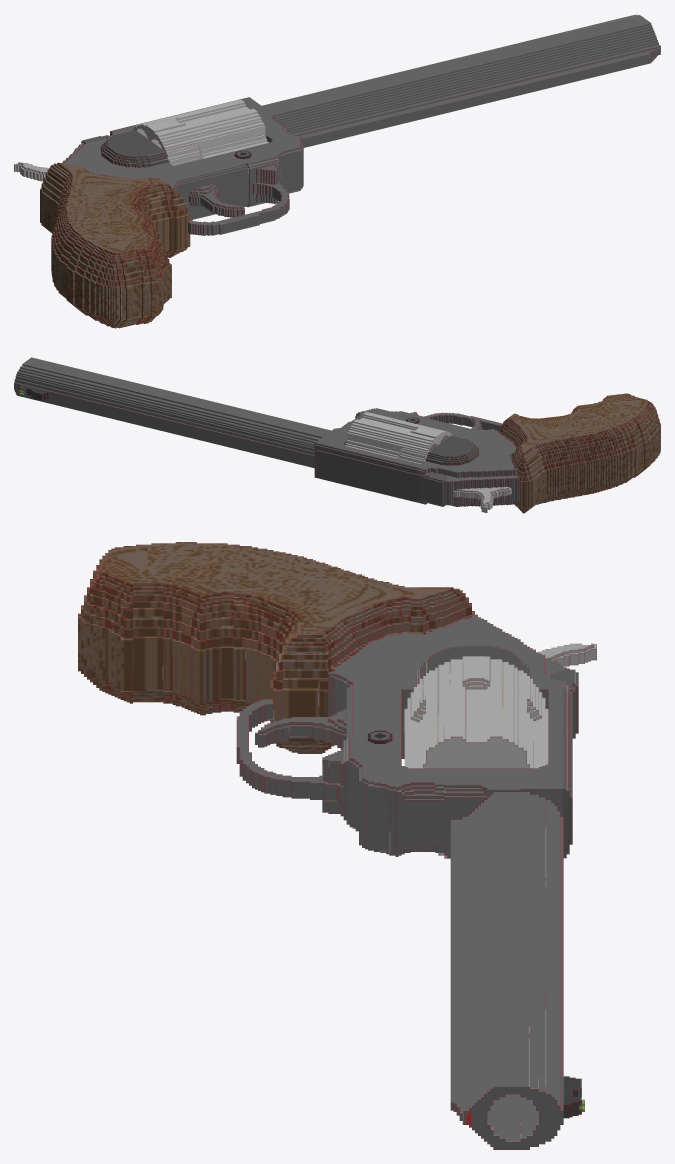
The model's file is Gun_2.fbx.
3 renders of one model, top to bottom at view 1: azimuth 30°, elevation 25°; view 2: azimuth 150°, elevation 25°; view 3: azimuth 270°, elevation 25°, orthographic. The views are drawn at different scales.
Visible parts, largest first — view 1: Gun_2.001; view 2: Gun_2.001; view 3: Gun_2.001.
Part boxes in pixels (x1,y1,x2,y2): Gun_2.001: (14,14,660,328); Gun_2.001: (14,357,660,513); Gun_2.001: (78,542,596,1149).
Bounding box in the file's own units: 40.8 × 4.7 × 17.
1 material, 1 textured.
